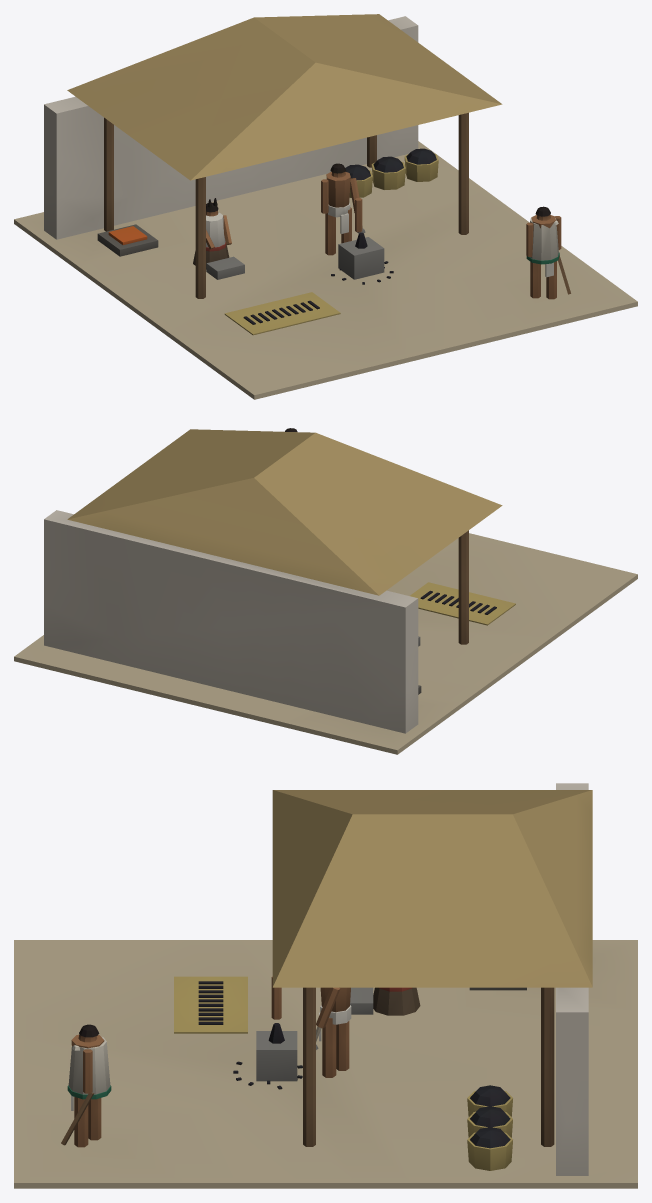
Rendered from forge.glb.
The picture shows the model from 3 angles, top to bottom: view 1: azimuth 30°, elevation 25°; view 2: azimuth 150°, elevation 25°; view 3: azimuth 270°, elevation 25°; orthographic projection. The views are drawn at different scales.
Parts seen in each view (by area): view 1: base; view 2: base; view 3: base.
Boxes of the visible parts, bbox=[...] form: base: bbox=[14, 14, 637, 399]; base: bbox=[14, 428, 637, 754]; base: bbox=[14, 783, 637, 1188].
Bounding box in the file's own units: 7 × 3.4 × 7.6.
